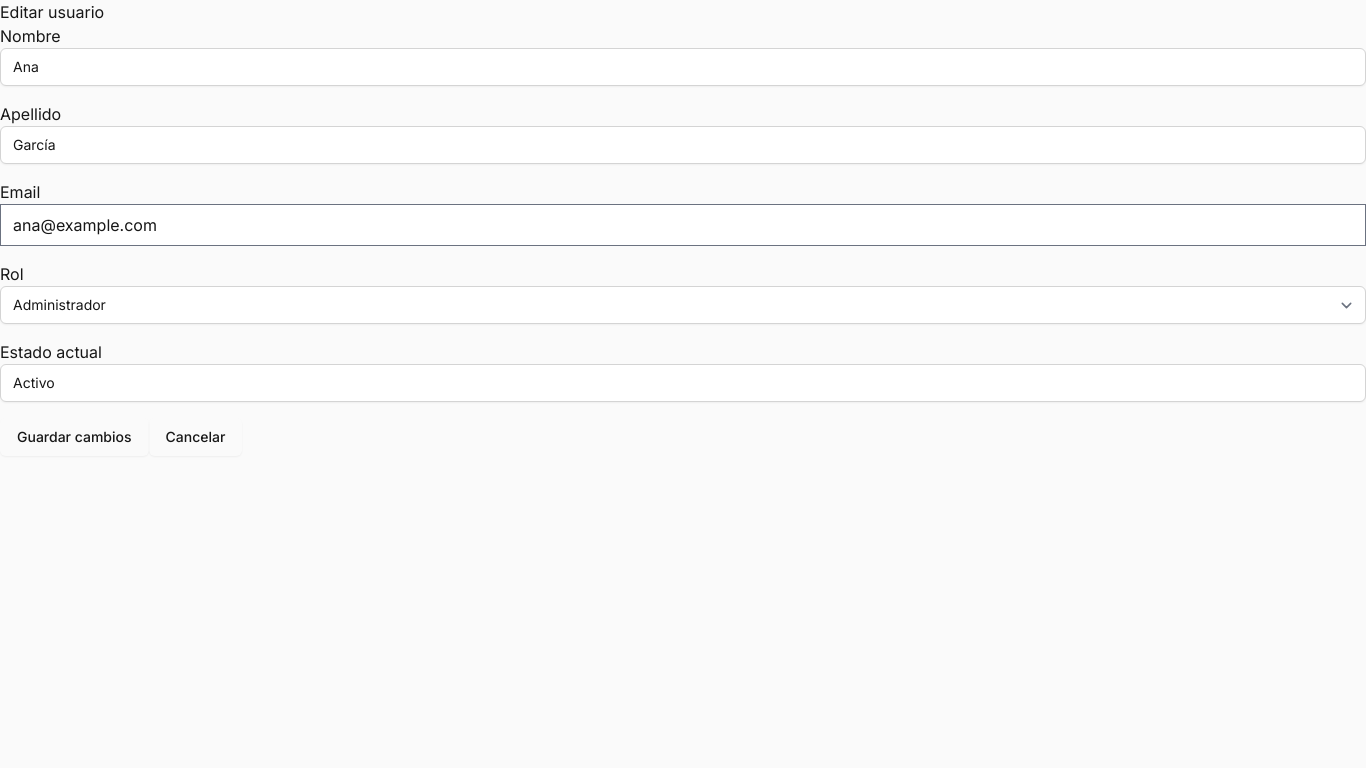
Test case: UsuarioEditModal › shows email validation error for invalid email
The image size is (1366, 768).
Replace the text in the field labelled "Email" with "bad-email": (683, 225) [0,204,1365,246]
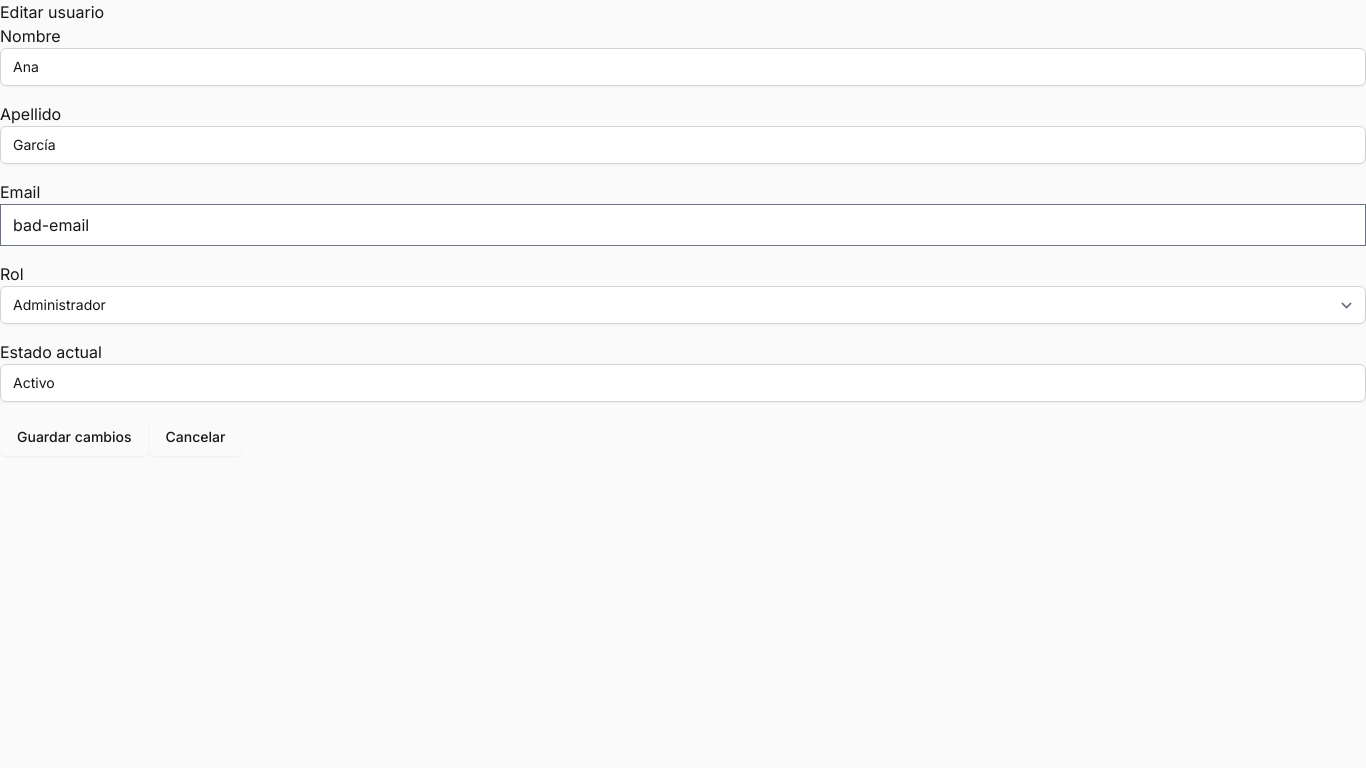
Click the button "Guardar cambios": (74, 437) [0,418,148,456]
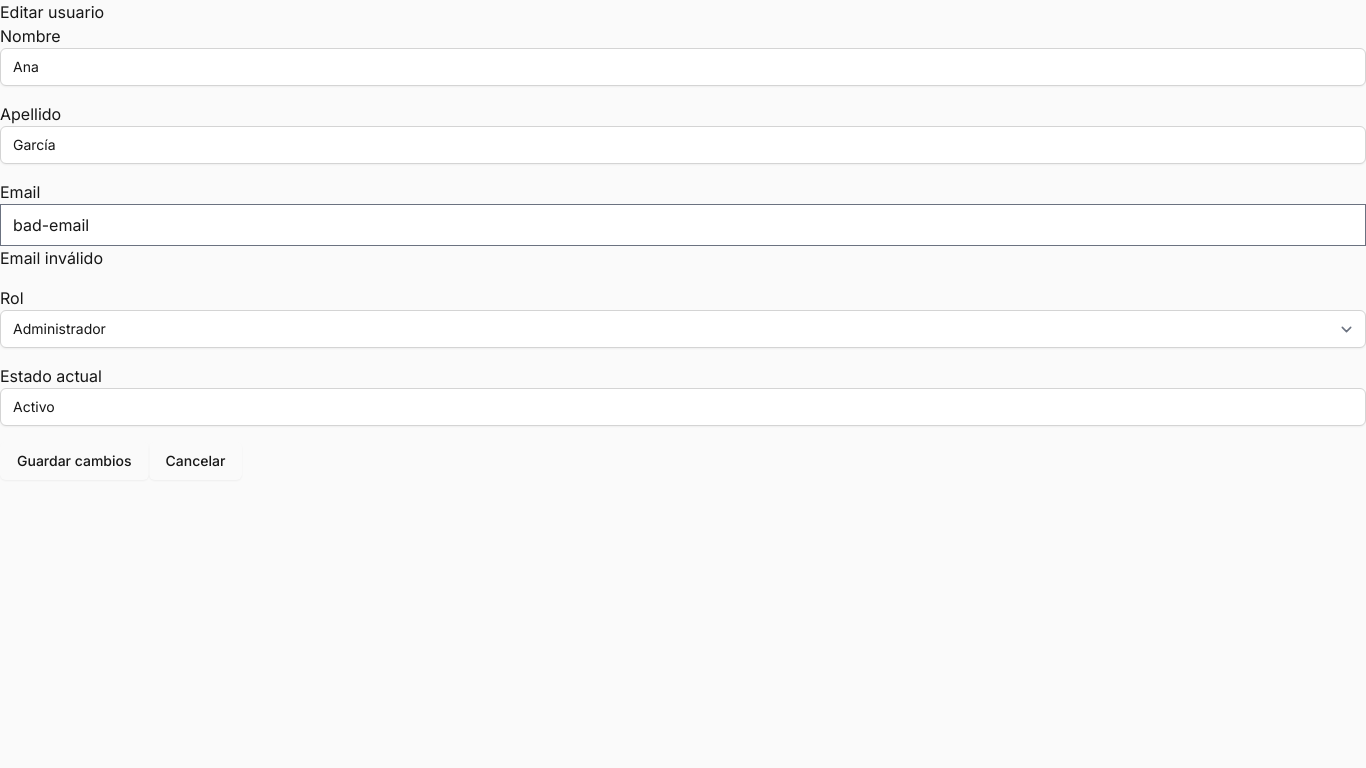
Check: the text "Email inválido" is shown, box [0,248,103,268]
